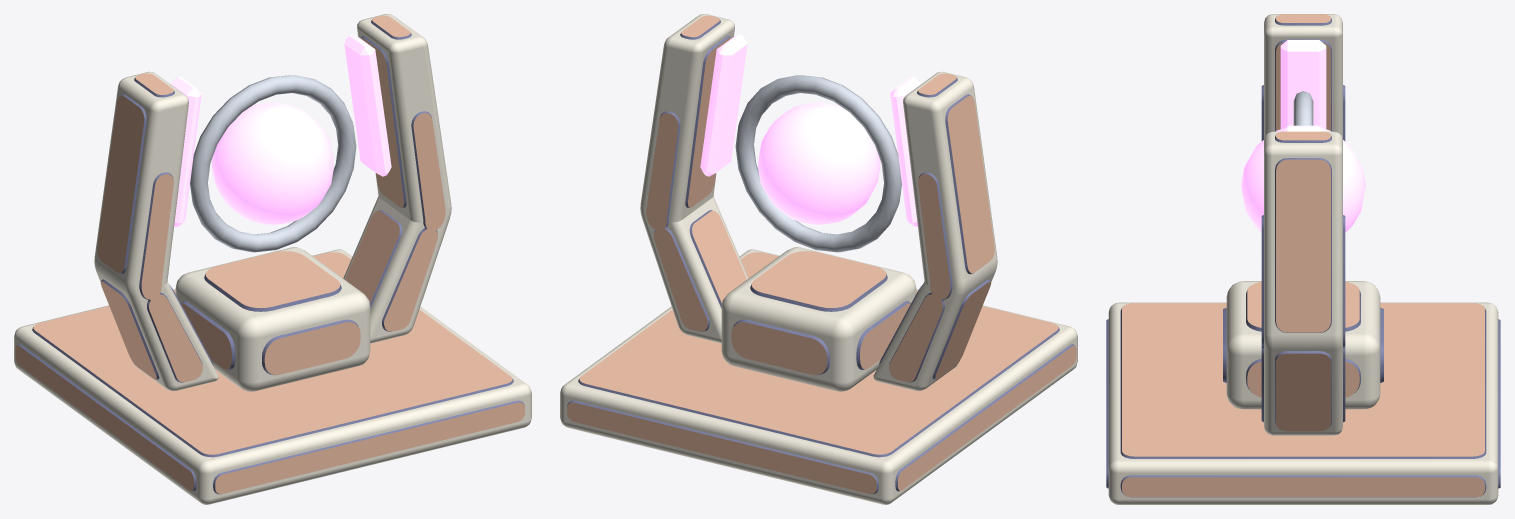
The model's file is R4X_Blink.fbx.
The picture shows the model from 3 angles, left to right: view 1: azimuth 30°, elevation 25°; view 2: azimuth 150°, elevation 25°; view 3: azimuth 270°, elevation 25°; orthographic projection.
Parts seen in each view (by area): view 1: R4X_Blink_Body; view 2: R4X_Blink_Body; view 3: R4X_Blink_Body.
Boxes of the visible parts, x1=… form: R4X_Blink_Body: x1=14, y1=14, x2=531, y2=504; R4X_Blink_Body: x1=560, y1=14, x2=1077, y2=504; R4X_Blink_Body: x1=1106, y1=14, x2=1500, y2=504.
Size of the model in its own units: 0.52 by 0.51 by 0.52.
